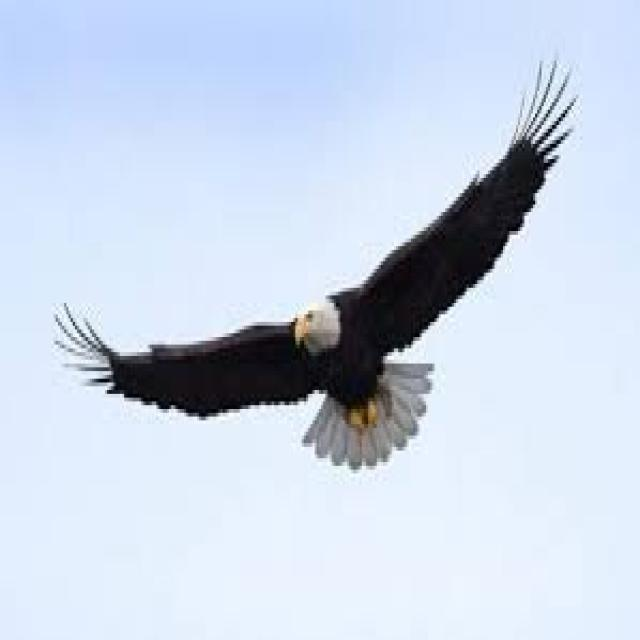Eagle: (50, 69, 573, 470)
